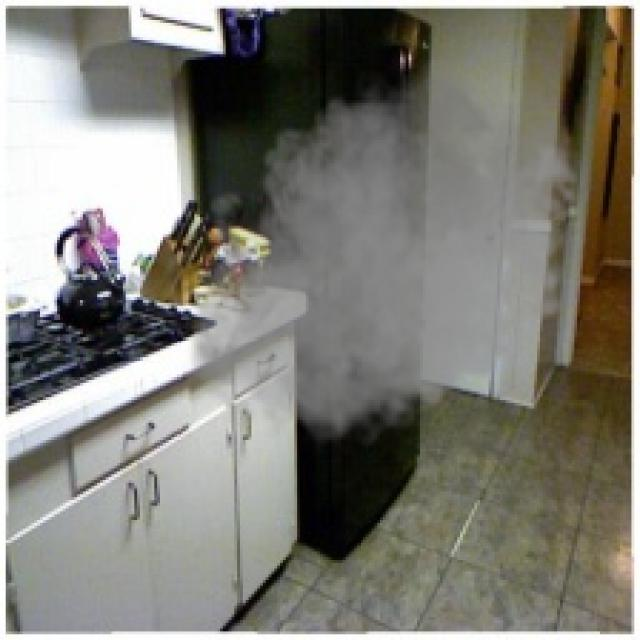smoke: (183, 43, 591, 454)
